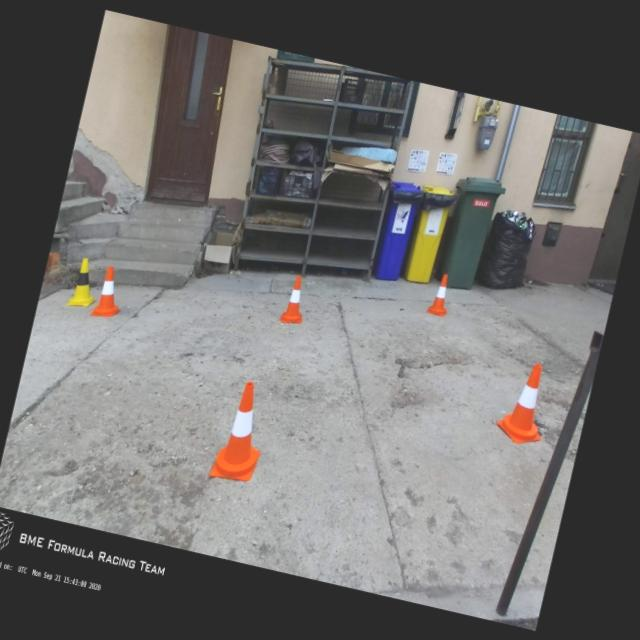orange_cone: (209, 377, 275, 486), (492, 356, 558, 448), (89, 262, 130, 322), (279, 272, 312, 327), (426, 272, 454, 316)
yellow_cone: (66, 256, 105, 312)
